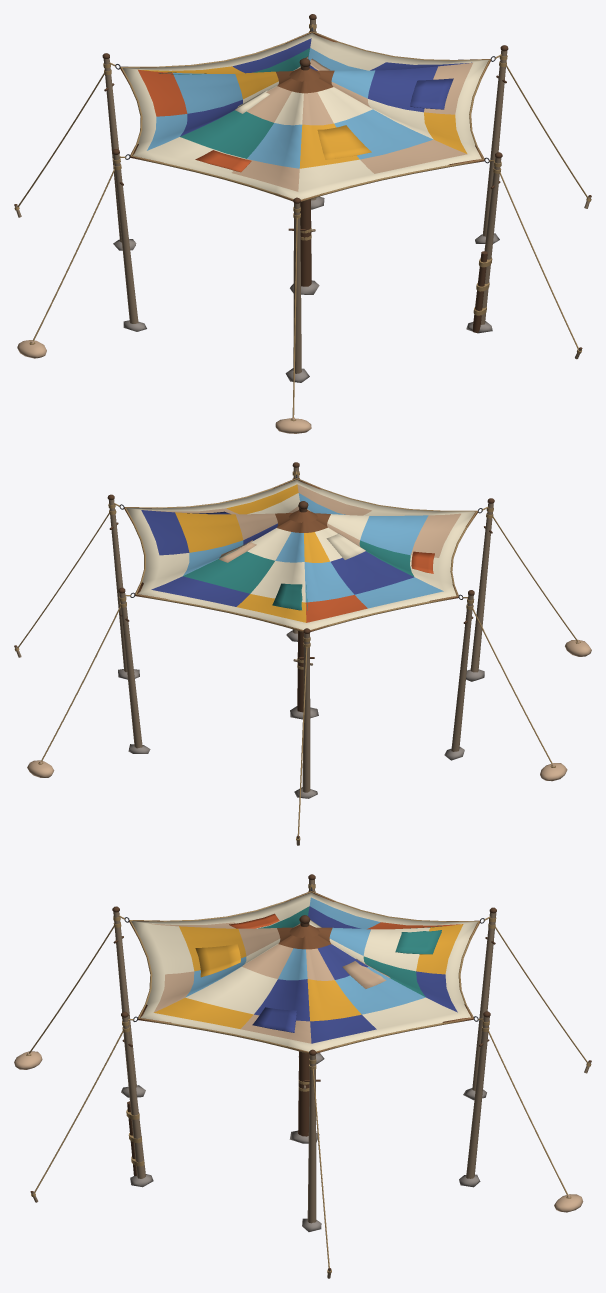
Rendered from deco_tent_sail_patchwork.fbx.
3 views of the same model, one above another, from view 1: azimuth 30°, elevation 25°; view 2: azimuth 150°, elevation 25°; view 3: azimuth 270°, elevation 25° (orthographic). The views are drawn at different scales.
Visible parts, largest first — view 1: Tent_SailPatchwork_Canopy, Tent_SailPatchwork_Masts, Tent_SailPatchwork_Patches, Tent_SailPatchwork_Hem, Tent_SailPatchwork_Guys, Tent_SailPatchwork_KingPole, Tent_SailPatchwork_Anchors, Tent_SailPatchwork_Rigging; view 2: Tent_SailPatchwork_Canopy, Tent_SailPatchwork_Masts, Tent_SailPatchwork_Hem, Tent_SailPatchwork_Patches, Tent_SailPatchwork_Guys, Tent_SailPatchwork_Anchors, Tent_SailPatchwork_KingPole, Tent_SailPatchwork_Rigging; view 3: Tent_SailPatchwork_Canopy, Tent_SailPatchwork_Masts, Tent_SailPatchwork_Patches, Tent_SailPatchwork_Hem, Tent_SailPatchwork_Guys, Tent_SailPatchwork_KingPole, Tent_SailPatchwork_Anchors, Tent_SailPatchwork_Rigging.
Part boxes in pixels (x1,y1,x2,y2): Tent_SailPatchwork_Canopy: (122, 33, 488, 199); Tent_SailPatchwork_Masts: (102, 14, 508, 382); Tent_SailPatchwork_Patches: (159, 56, 453, 172); Tent_SailPatchwork_Hem: (120, 31, 491, 201); Tent_SailPatchwork_Guys: (17, 65, 588, 417); Tent_SailPatchwork_KingPole: (290, 58, 319, 294); Tent_SailPatchwork_Anchors: (14, 195, 591, 433); Tent_SailPatchwork_Rigging: (103, 24, 507, 315); Tent_SailPatchwork_Canopy: (126, 479, 475, 629); Tent_SailPatchwork_Masts: (107, 462, 494, 798); Tent_SailPatchwork_Hem: (124, 478, 478, 632); Tent_SailPatchwork_Patches: (187, 511, 434, 610); Tent_SailPatchwork_Guys: (17, 513, 577, 835); Tent_SailPatchwork_Anchors: (14, 639, 591, 845); Tent_SailPatchwork_KingPole: (290, 501, 318, 719); Tent_SailPatchwork_Rigging: (108, 471, 493, 658); Tent_SailPatchwork_Canopy: (131, 892, 477, 1051); Tent_SailPatchwork_Masts: (112, 874, 496, 1231); Tent_SailPatchwork_Patches: (195, 913, 441, 1032); Tent_SailPatchwork_Hem: (129, 891, 480, 1053); Tent_SailPatchwork_Guys: (29, 925, 588, 1267); Tent_SailPatchwork_KingPole: (289, 915, 319, 1143); Tent_SailPatchwork_Anchors: (14, 1051, 591, 1278); Tent_SailPatchwork_Rigging: (113, 884, 496, 1166).
Bounding box in the file's own units: 1279 × 486 × 1136.
